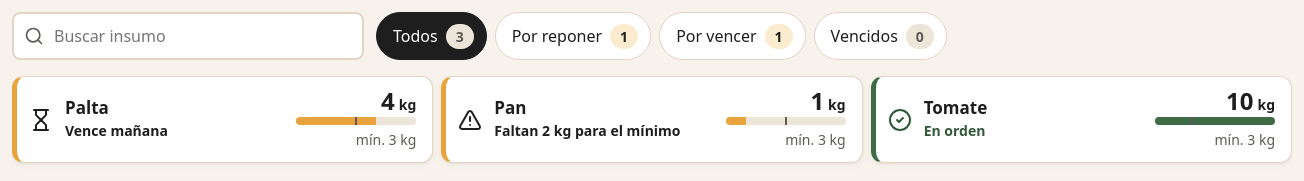
Scenario: InventoryTab › filters with counts and searches by name
Expected: the button "Por reponer 1" is shown, [495,12,651,60]
Click the button "Por vencer 1" at (732, 36), box [659,12,806,60]
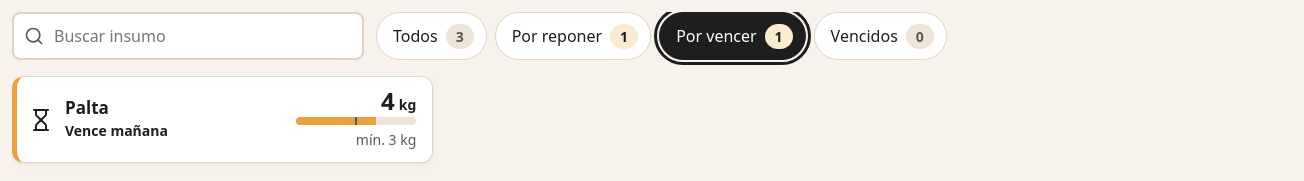
Expected: the number of buttons named "," is 1, [12,76,433,163]
Click the button "Todos 3" at (431, 36), box [376,12,487,60]
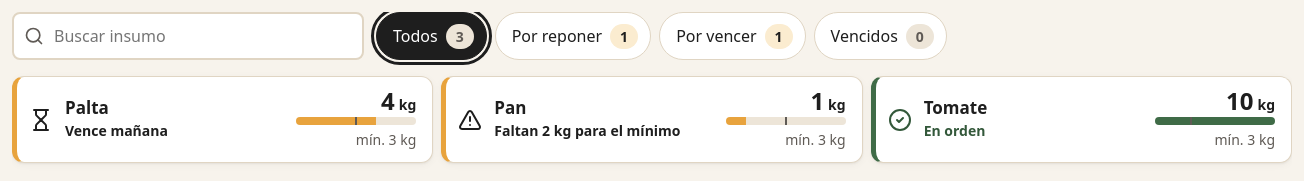
Type "toma" into the search field labelled "Buscar insumo" at (188, 36), box [12,12,364,60]
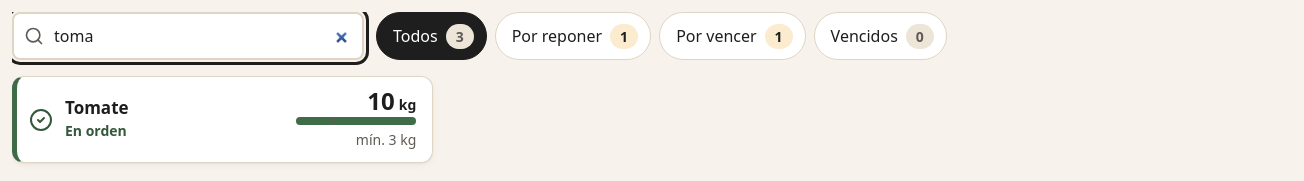
Expected: the number of buttons named "," is 1, [12,76,433,163]
